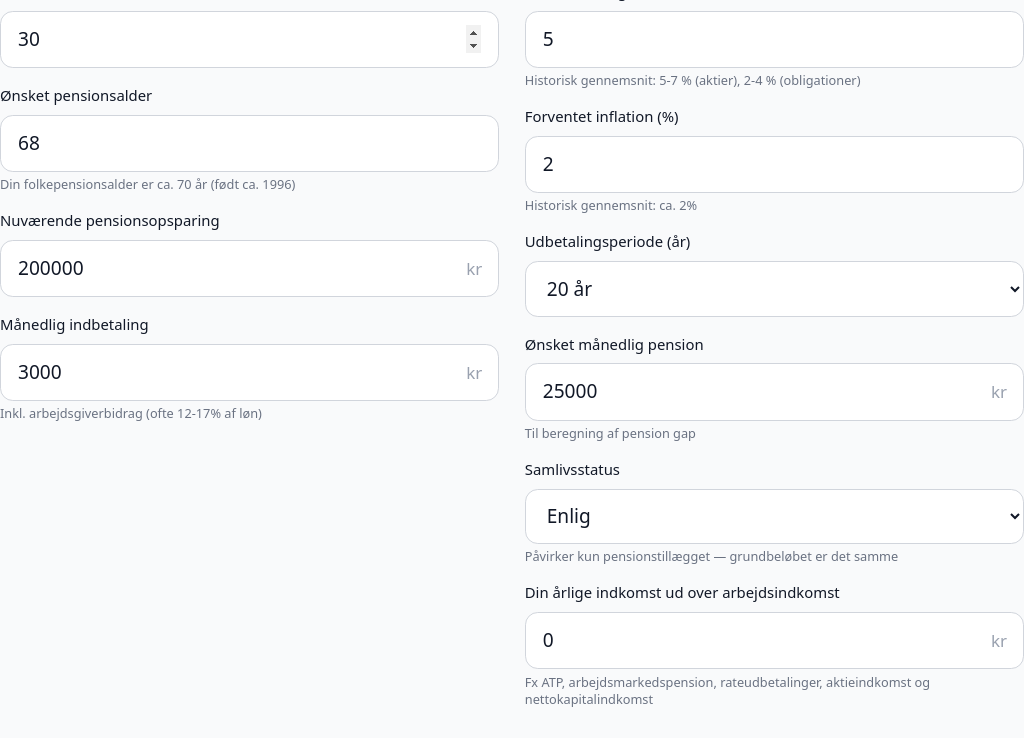
Test: PensionBeregner — pensionstillæg efter indkomst › fjerner pensionstillægget over bortfaldsgrænsen, men ikke grundbeløbet
This screenshot has width=1024, height=738.
Replace the text in the number field labelled "Din årlige indkomst ud over arbejdsindkomst" with "500000": (774, 641) [525,612,1023,670]
(page scrolled)
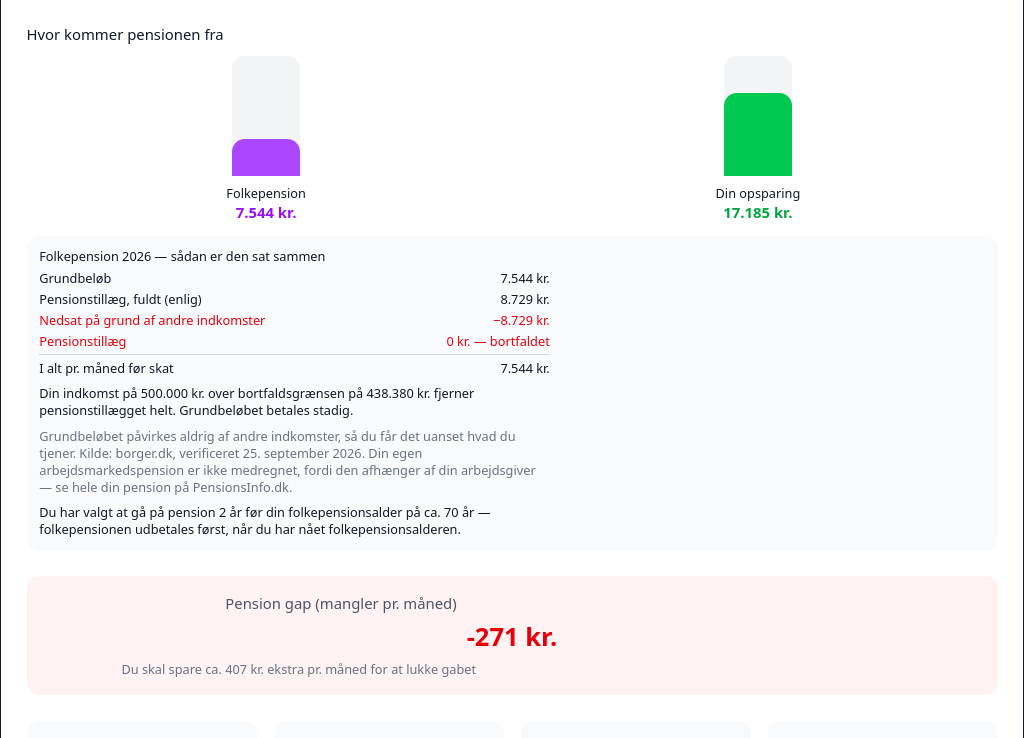
Expected: the text "fjerner pensionstillægget helt" is shown, [39,384,474,419]
Expected: the text "0 kr. — bortfaldet" is shown, [446,333,550,350]
Expected: the list item "I alt pr. måned før skat" reads "I alt pr. måned før skat 7.544 kr.", [500,359,550,377]
